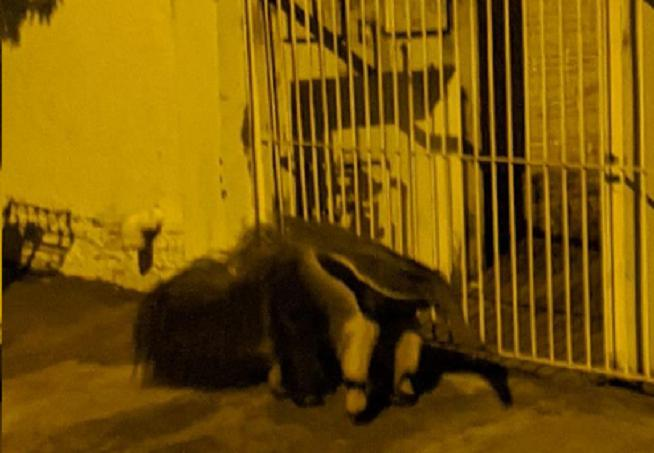TamanduaBandeira: (138, 215, 472, 421)
